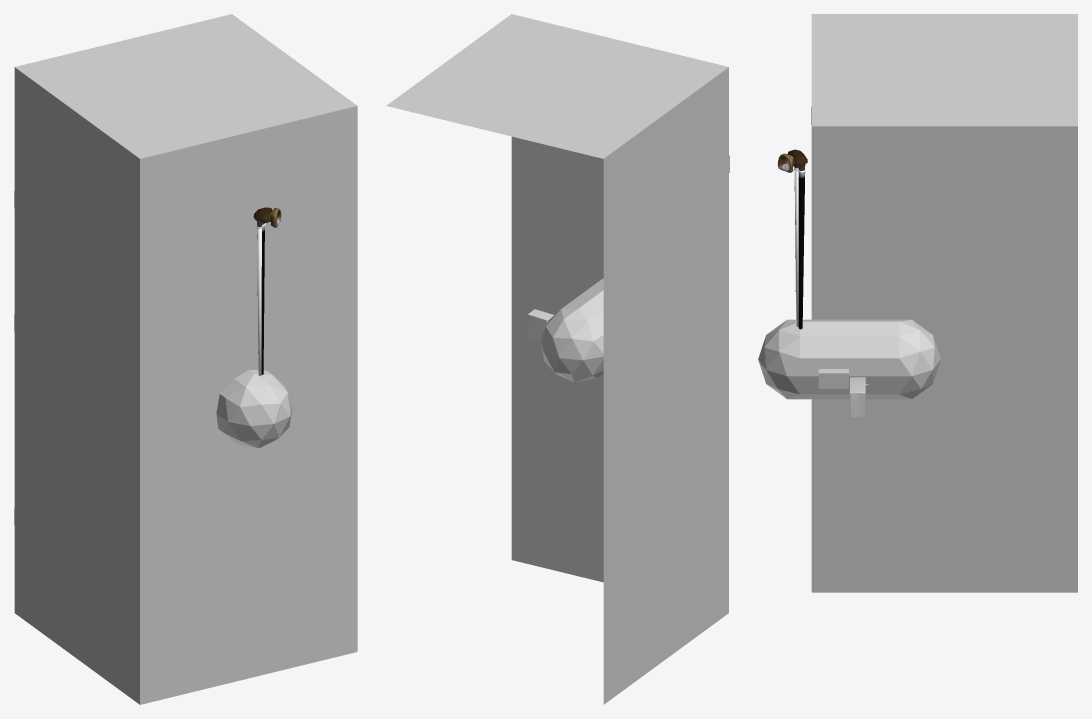
The model's file is cosmeticsroom.fbx.
3 renders of one model, left to right at view 1: azimuth 30°, elevation 25°; view 2: azimuth 150°, elevation 25°; view 3: azimuth 270°, elevation 25°, orthographic. The views are drawn at different scales.
Parts seen in each view (by area): view 1: building, cloud, cosmetics room entrance force volume; view 2: building, cloud, comptestroom; view 3: building, cloud, cosmetics room entrance slippery fall volume, comptestroom, shoppingcenter, cosmetics room entrance force volume, Entrance.
Part boxes in pixels (x1=…): building: x1=14, y1=14, x2=357, y2=704; cloud: x1=216, y1=369, x2=292, y2=448; cosmetics room entrance force volume: x1=257, y1=228, x2=261, y2=375; building: x1=386, y1=14, x2=729, y2=704; cloud: x1=540, y1=278, x2=603, y2=382; comptestroom: x1=527, y1=309, x2=553, y2=341; building: x1=811, y1=14, x2=1077, y2=592; cloud: x1=758, y1=319, x2=940, y2=399; cosmetics room entrance slippery fall volume: x1=798, y1=172, x2=805, y2=329; comptestroom: x1=849, y1=377, x2=868, y2=419; shoppingcenter: x1=818, y1=369, x2=848, y2=388; cosmetics room entrance force volume: x1=794, y1=170, x2=798, y2=326; Entrance: x1=777, y1=149, x2=807, y2=172.
Size of the model in its own units: 167 by 200 by 400.
